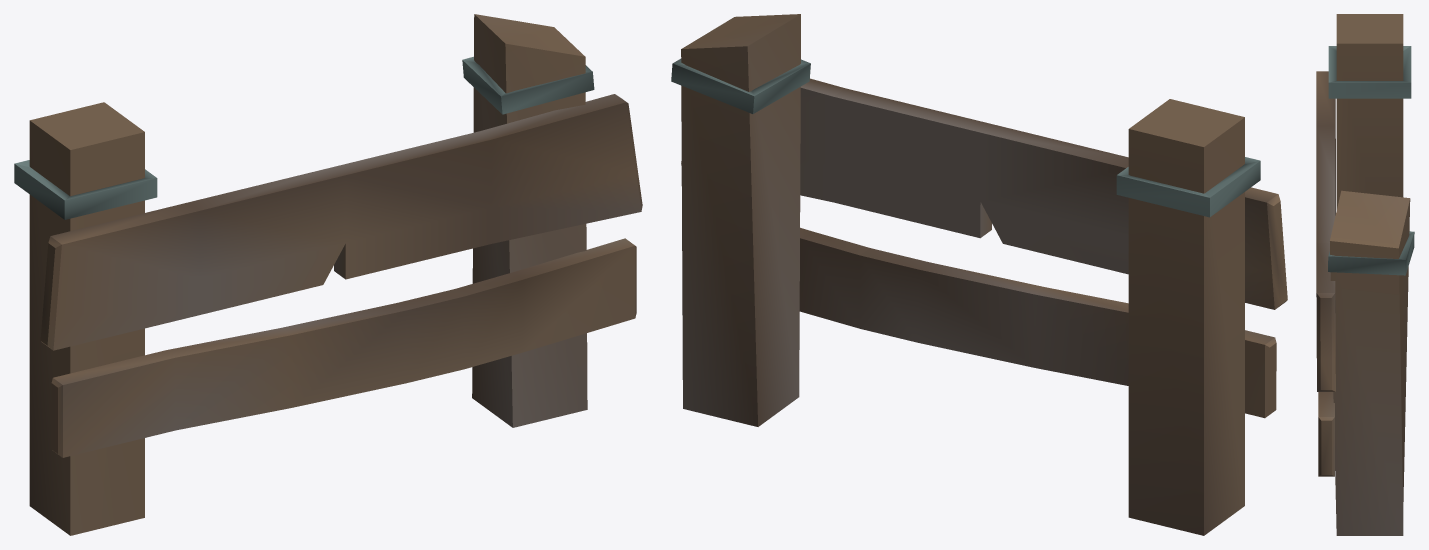
File: Fences04.fbx
3 views of the same model, side by side, from view 1: azimuth 30°, elevation 25°; view 2: azimuth 150°, elevation 25°; view 3: azimuth 270°, elevation 25° (orthographic). The views are drawn at different scales.
Parts seen in each view (by area): view 1: Fances04_LOD0; view 2: Fances04_LOD0; view 3: Fances04_LOD0.
Boxes of the visible parts, bbox=[...] form: Fances04_LOD0: bbox=[14, 14, 642, 535]; Fances04_LOD0: bbox=[671, 14, 1287, 535]; Fances04_LOD0: bbox=[1316, 14, 1414, 535].
Size of what is drawn, in the model's own units: 154 by 95.63 by 26.93.
